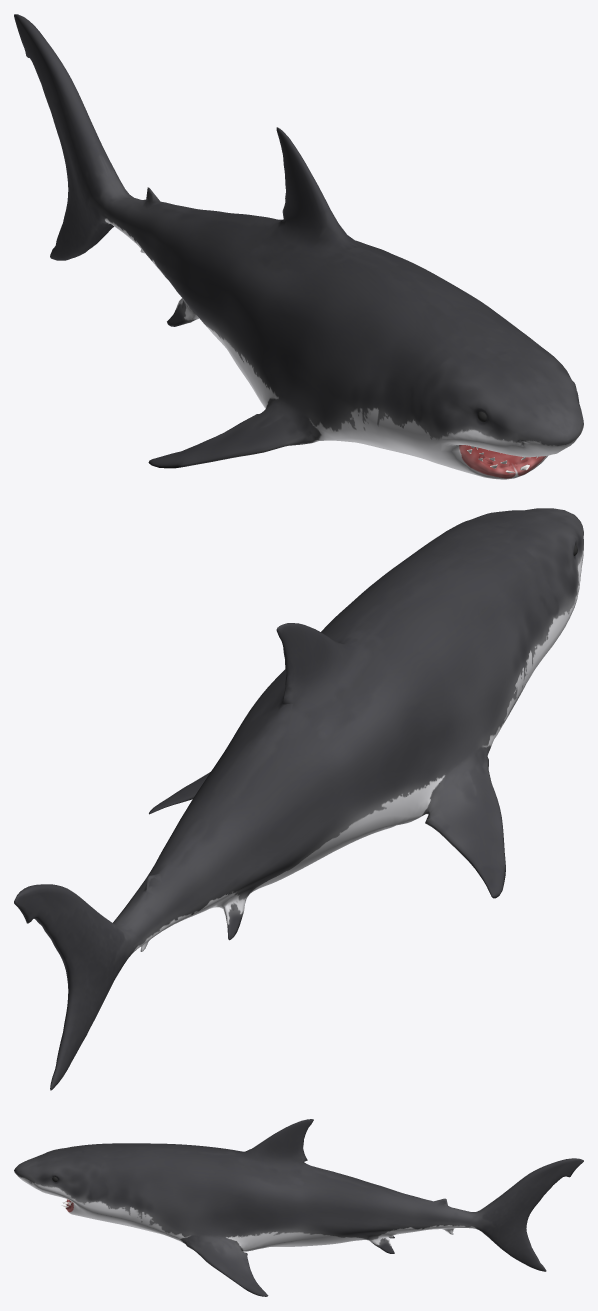
Rendered from GreatWhiteShark_MeshOnly.fbx.
3 views of the same model, one above another, from view 1: azimuth 30°, elevation 25°; view 2: azimuth 150°, elevation 25°; view 3: azimuth 270°, elevation 25° (orthographic). The views are drawn at different scales.
Parts seen in each view (by area): view 1: GreatWhiteShark_Body; view 2: GreatWhiteShark_Body; view 3: GreatWhiteShark_Body.
Part boxes in pixels (x1=…): GreatWhiteShark_Body: x1=14, y1=14, x2=583, y2=479; GreatWhiteShark_Body: x1=14, y1=508, x2=583, y2=1090; GreatWhiteShark_Body: x1=14, y1=1119, x2=583, y2=1296.
Size of the model in its own units: 1157 by 943 by 3190.
